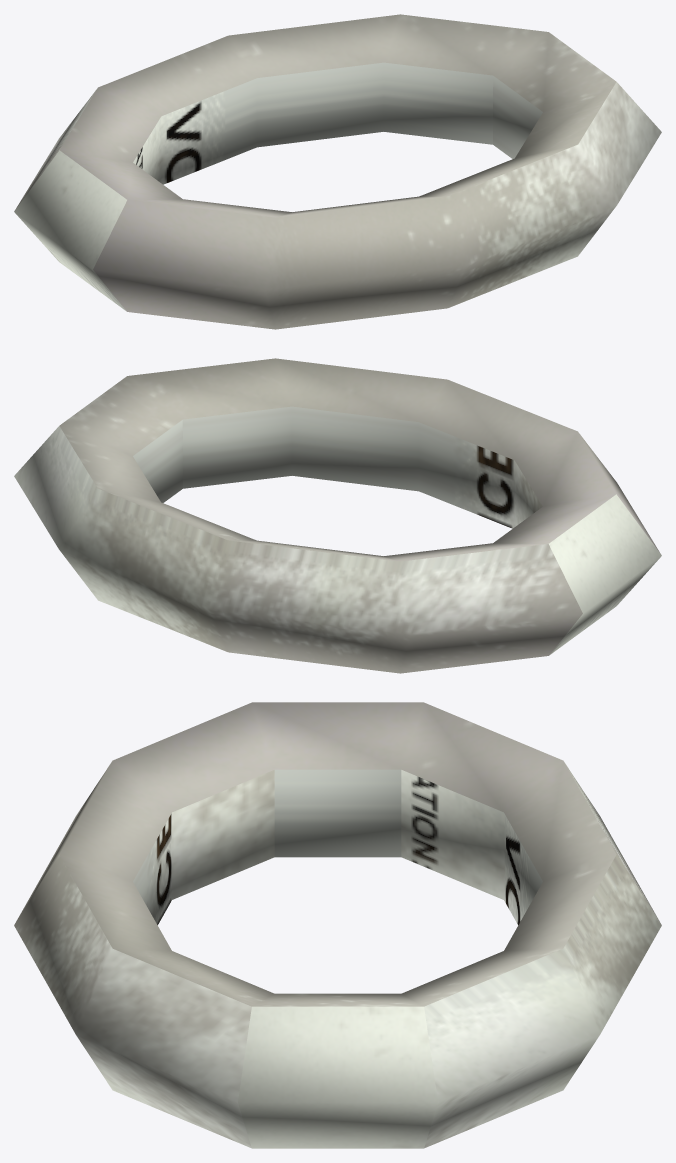
File: Key_Part3.fbx
The picture shows the model from 3 angles, top to bottom: view 1: azimuth 30°, elevation 25°; view 2: azimuth 150°, elevation 25°; view 3: azimuth 270°, elevation 25°; orthographic projection. The views are drawn at different scales.
Visible parts, largest first — view 1: Cylinder003.003; view 2: Cylinder003.003; view 3: Cylinder003.003.
Boxes of the visible parts, bbox=[...] form: Cylinder003.003: bbox=[14, 14, 661, 329]; Cylinder003.003: bbox=[14, 358, 661, 673]; Cylinder003.003: bbox=[14, 702, 661, 1148].
Size of the model in its own units: 657 by 125 by 511.
